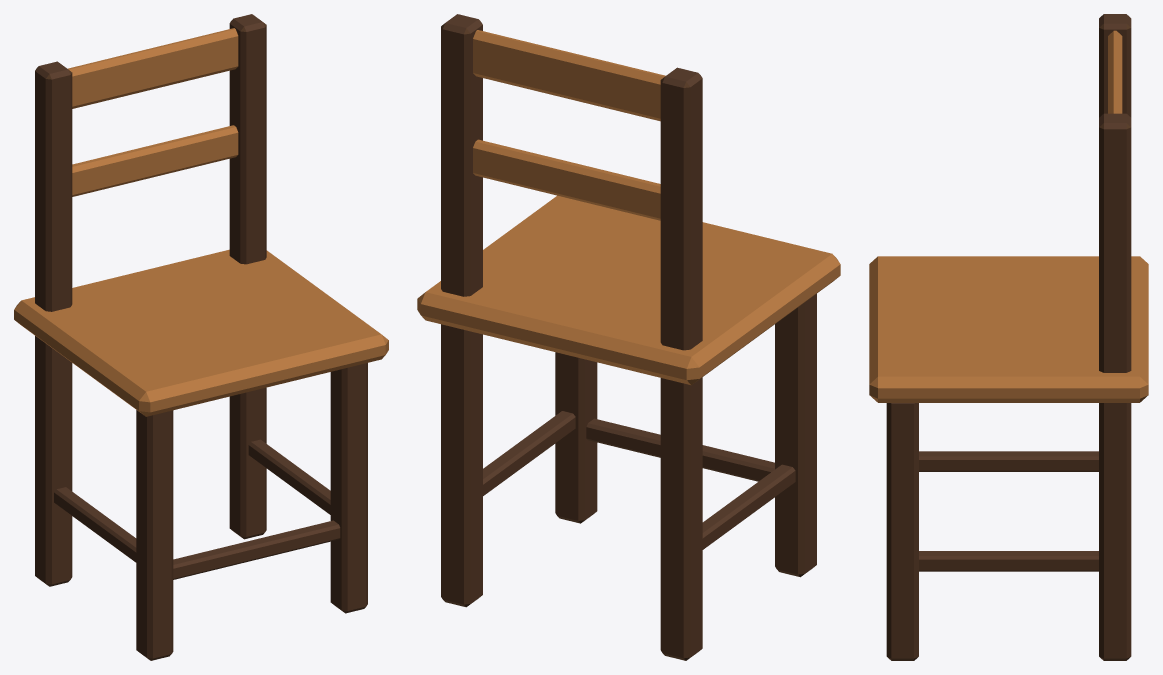
The model's file is prop_chair_rustic_a.glb.
The picture shows the model from 3 angles, left to right: view 1: azimuth 30°, elevation 25°; view 2: azimuth 150°, elevation 25°; view 3: azimuth 270°, elevation 25°; orthographic projection. The views are drawn at different scales.
Visible parts, largest first — view 1: chair_leg_back_1, chair_back_slat_mid; view 2: chair_leg_back_1, chair_back_slat_mid; view 3: chair_back_slat_mid, chair_leg_back_1.
Part boxes in pixels (left/top/right/bottom): chair_leg_back_1: left=35, top=14, right=367, bottom=660; chair_back_slat_mid: left=14, top=28, right=388, bottom=416; chair_leg_back_1: left=441, top=14, right=816, bottom=660; chair_back_slat_mid: left=417, top=30, right=840, bottom=385; chair_back_slat_mid: left=869, top=30, right=1148, bottom=402; chair_leg_back_1: left=886, top=14, right=1131, bottom=660.
Bounding box in the file's own units: 0.52 × 1.02 × 0.48.
